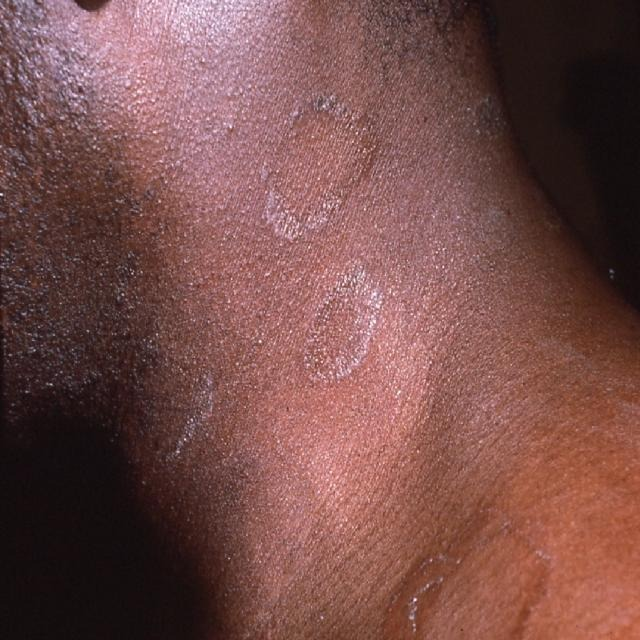Ringworm: (247, 80, 388, 242), (297, 247, 385, 393)
